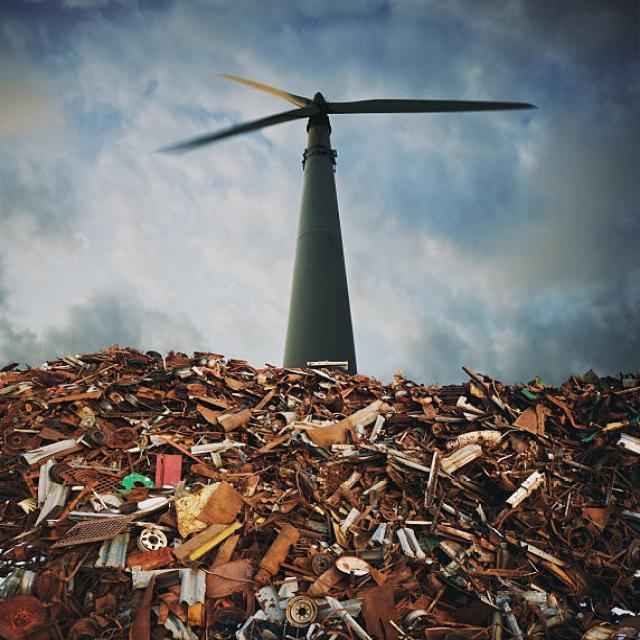cardboard: (23, 346, 628, 612)
